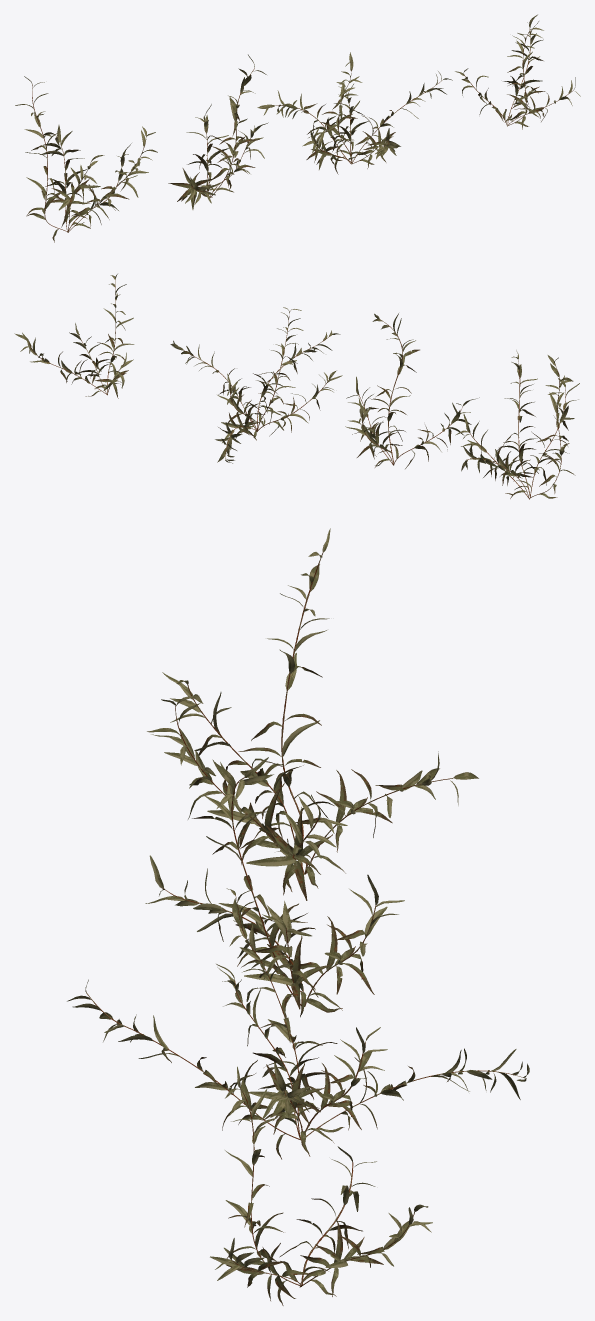
File: arbusto.glb
3 renders of one model, top to bottom at view 1: azimuth 30°, elevation 25°; view 2: azimuth 150°, elevation 25°; view 3: azimuth 270°, elevation 25°, orthographic. The views are drawn at different scales.
Visible parts, largest first — view 1: shrub_02_c, shrub_02_a, shrub_02_b, shrub_02_d; view 2: shrub_02_a, shrub_02_c, shrub_02_b, shrub_02_d; view 3: shrub_02_a, shrub_02_c, shrub_02_b, shrub_02_d.
Boxes of the visible parts, x1,y1,x2,y2 form: shrub_02_c: (257, 52, 452, 174); shrub_02_a: (15, 76, 157, 242); shrub_02_b: (168, 54, 268, 209); shrub_02_d: (455, 14, 580, 129); shrub_02_a: (455, 350, 579, 499); shrub_02_c: (170, 307, 342, 463); shrub_02_b: (345, 313, 479, 468); shrub_02_d: (14, 274, 134, 398); shrub_02_a: (147, 528, 478, 900); shrub_02_c: (67, 888, 529, 1159); shrub_02_b: (145, 757, 404, 1018); shrub_02_d: (210, 1066, 432, 1305).
Size of the model in its own units: 6.05 by 1.7 by 2.29.
1 material, 1 textured.
